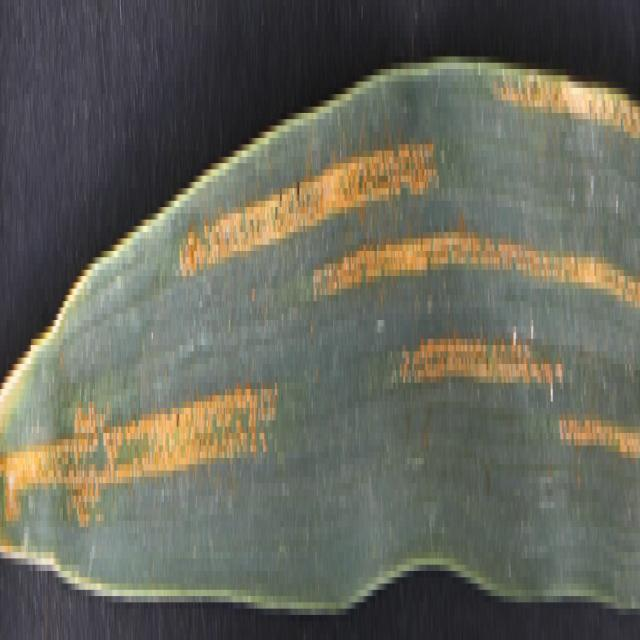leaf rust: (1, 25, 638, 527)
